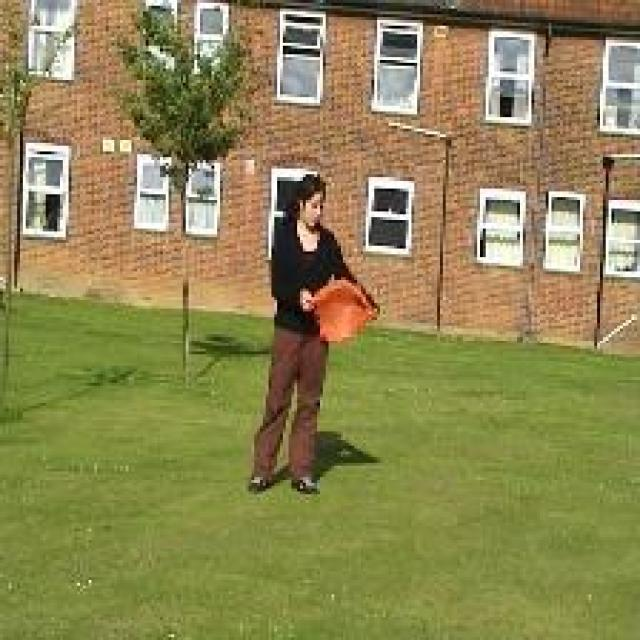other: (306, 277, 384, 347)
